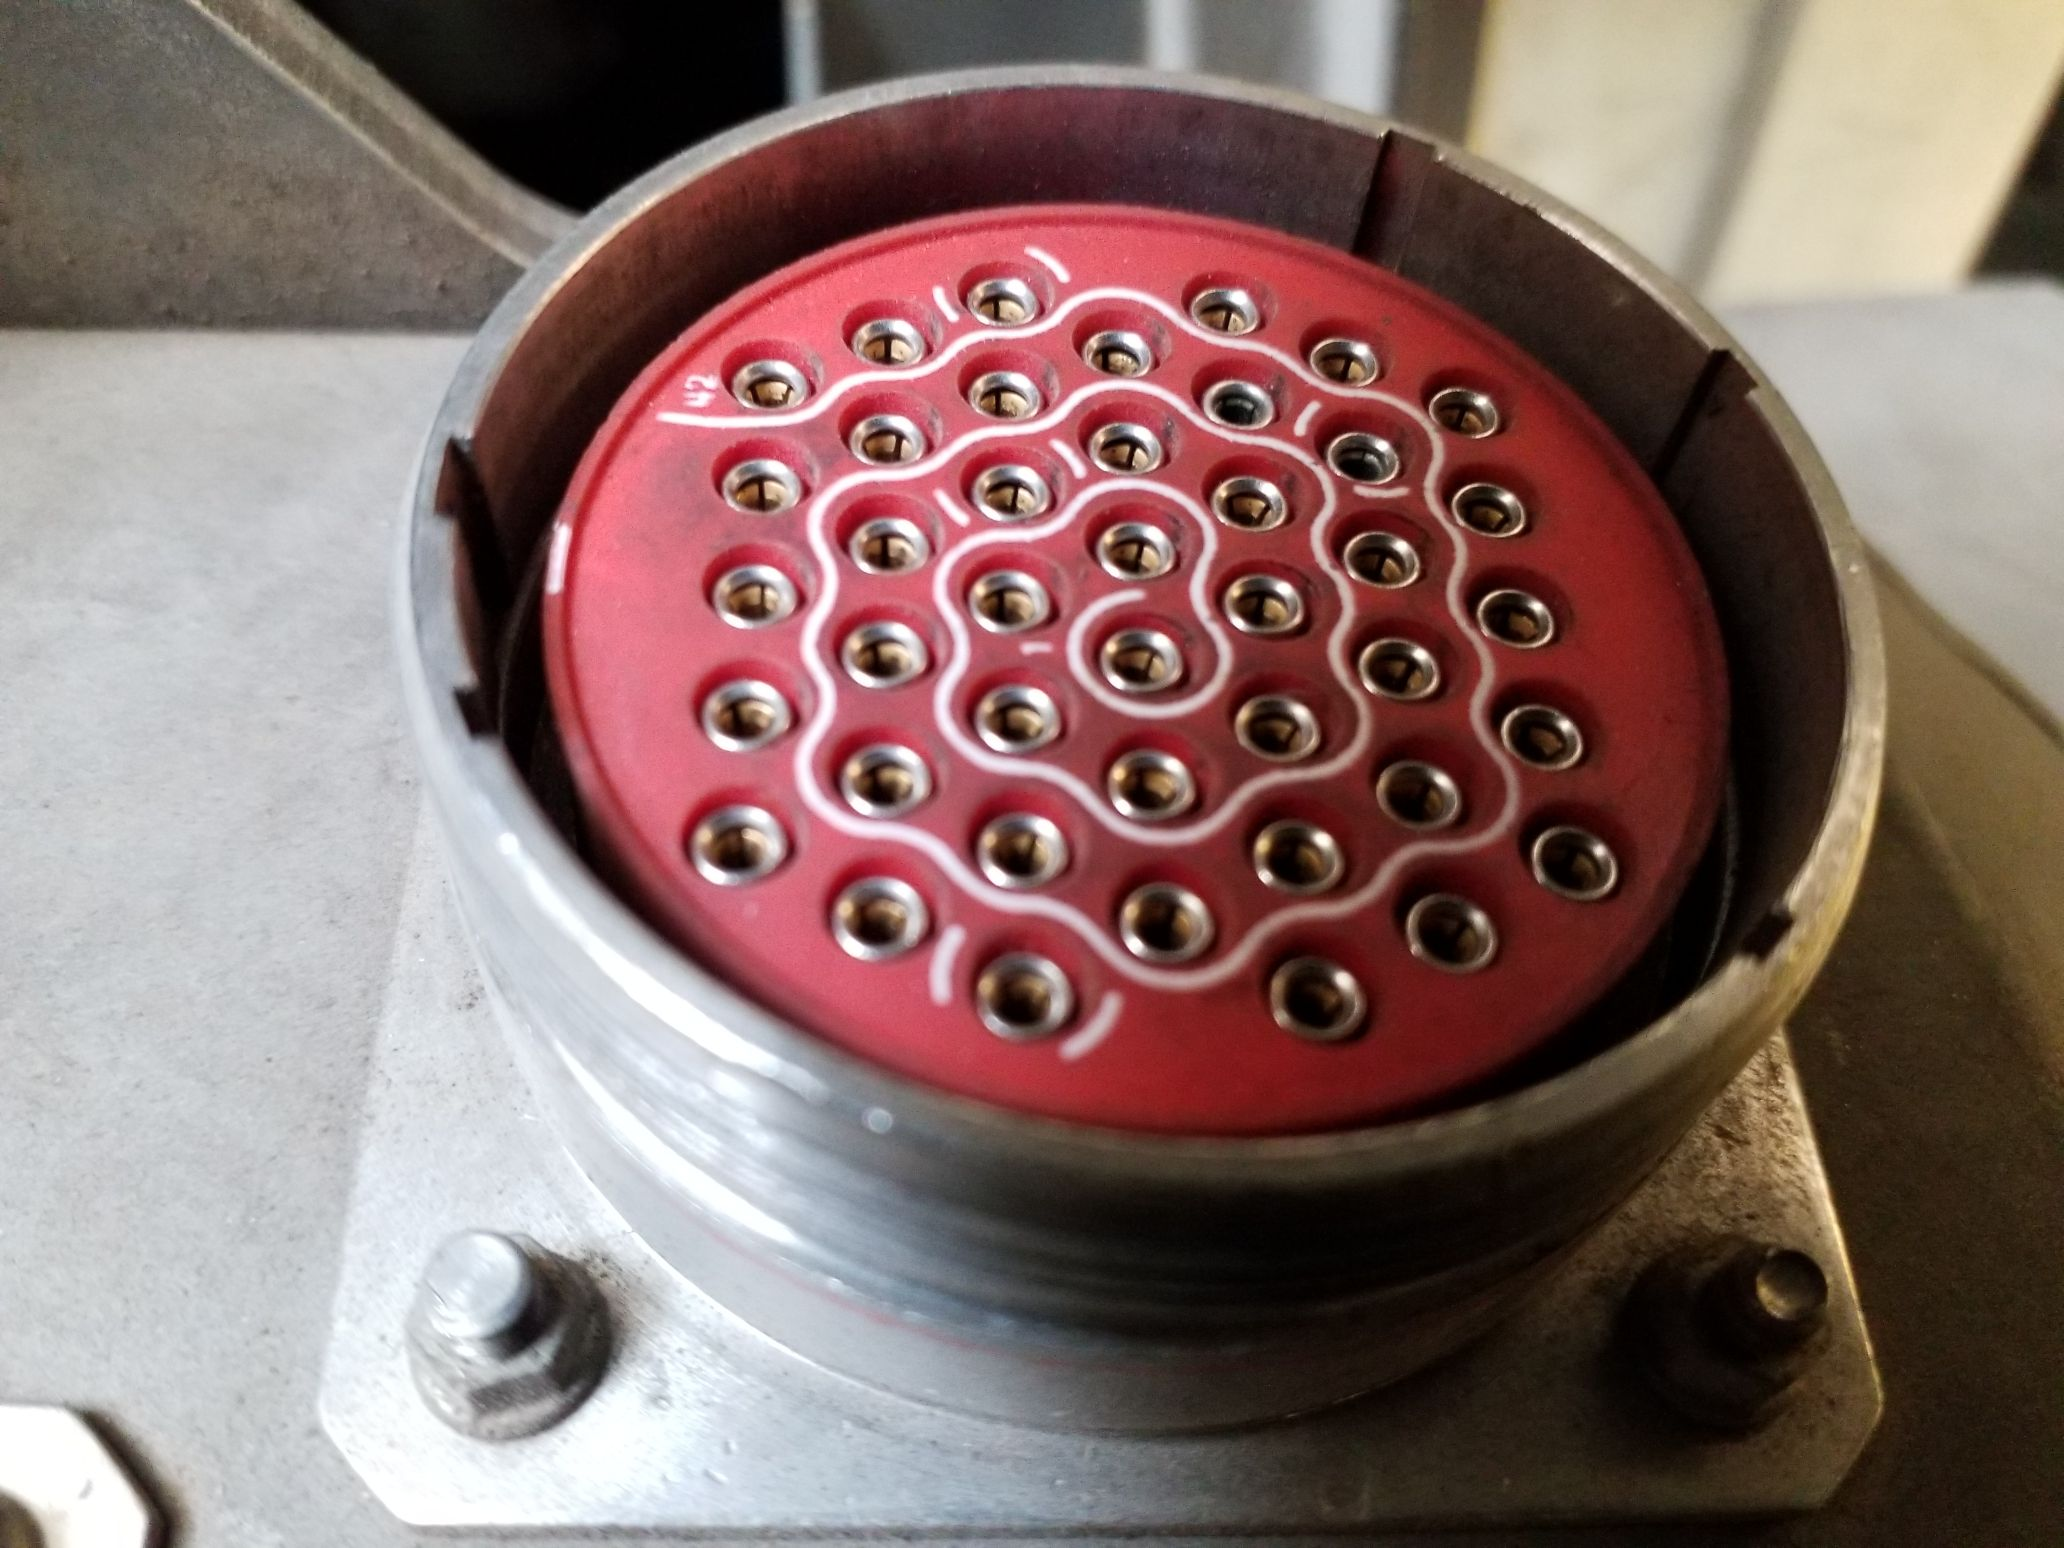inletround: (392, 62, 1890, 1194)
